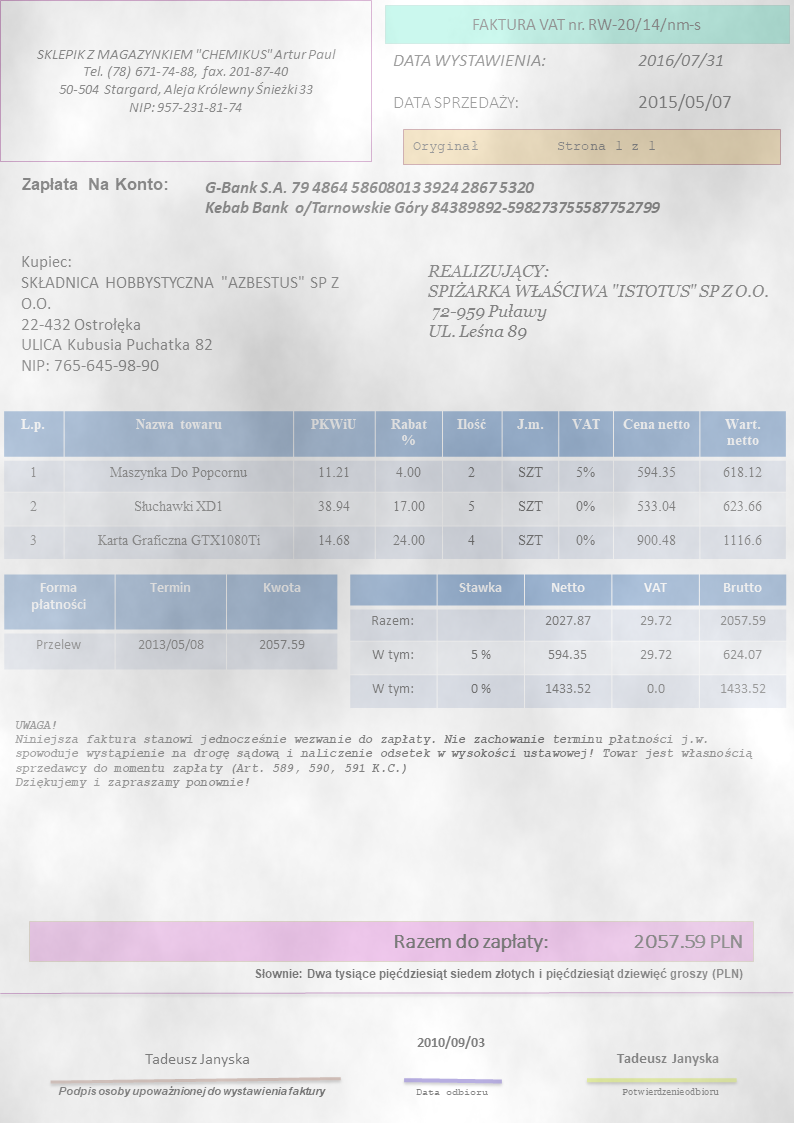Table: (2, 409, 788, 561), (348, 572, 787, 710), (2, 572, 339, 672)
TextBox: (13, 715, 758, 791), (17, 251, 342, 374), (423, 260, 772, 344), (31, 41, 339, 118), (201, 176, 663, 218), (251, 963, 745, 984), (390, 926, 747, 953), (468, 10, 703, 37), (54, 1079, 329, 1100), (410, 135, 660, 157), (390, 48, 548, 70), (390, 89, 521, 114), (19, 173, 169, 194), (634, 90, 735, 114), (615, 1047, 723, 1069), (142, 1048, 252, 1068), (634, 49, 725, 70), (620, 1085, 721, 1100), (414, 1031, 487, 1051), (413, 1084, 490, 1100)
